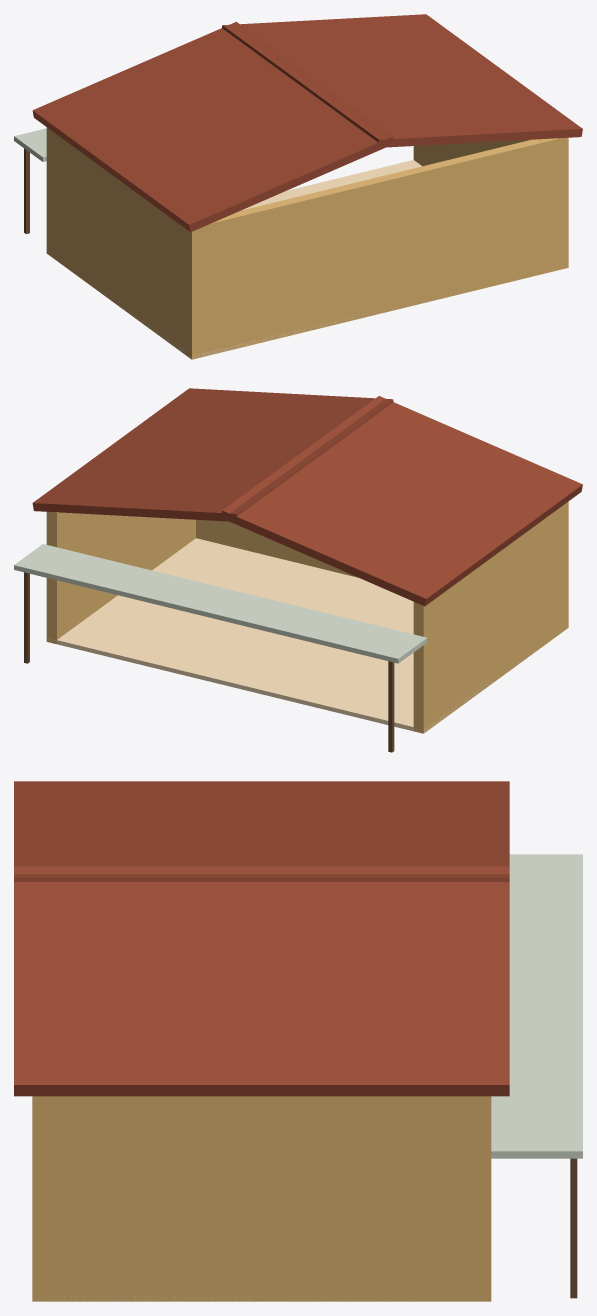
Rendered from furniture.glb.
3 views of the same model, one above another, from view 1: azimuth 30°, elevation 25°; view 2: azimuth 150°, elevation 25°; view 3: azimuth 270°, elevation 25° (orthographic). The views are drawn at different scales.
Visible parts, largest first — view 1: _MeshInstance3D_115, _MeshInstance3D_124, _MeshInstance3D_125, _MeshInstance3D_118, _MeshInstance3D_126, _MeshInstance3D_121, _MeshInstance3D_127, _MeshInstance3D_128; view 2: _MeshInstance3D_124, _MeshInstance3D_126, _MeshInstance3D_125, _MeshInstance3D_118, _MeshInstance3D_127, _MeshInstance3D_121, _MeshInstance3D_115, _MeshInstance3D_128, _MeshInstance3D_129; view 3: _MeshInstance3D_125, _MeshInstance3D_121, _MeshInstance3D_124, _MeshInstance3D_127, _MeshInstance3D_115, _MeshInstance3D_129.
Part boxes in pixels (x1,y1,x2,y2): _MeshInstance3D_115: (186, 137, 568, 359); _MeshInstance3D_124: (32, 22, 393, 232); _MeshInstance3D_125: (222, 14, 582, 147); _MeshInstance3D_118: (46, 127, 201, 358); _MeshInstance3D_126: (105, 160, 421, 359); _MeshInstance3D_121: (413, 139, 530, 166); _MeshInstance3D_127: (14, 128, 46, 161); _MeshInstance3D_128: (24, 148, 29, 233); _MeshInstance3D_124: (221, 396, 582, 606); _MeshInstance3D_126: (46, 538, 505, 733); _MeshInstance3D_125: (32, 388, 393, 521); _MeshInstance3D_118: (413, 501, 568, 733); _MeshInstance3D_127: (14, 544, 427, 663); _MeshInstance3D_121: (46, 511, 195, 644); _MeshInstance3D_115: (196, 503, 568, 631); _MeshInstance3D_128: (388, 661, 394, 752); _MeshInstance3D_129: (24, 572, 29, 663); _MeshInstance3D_125: (14, 866, 509, 1096); _MeshInstance3D_121: (32, 1096, 491, 1301); _MeshInstance3D_124: (14, 781, 509, 881); _MeshInstance3D_127: (491, 854, 582, 1158); _MeshInstance3D_115: (32, 1096, 50, 1301); _MeshInstance3D_129: (570, 1158, 577, 1298).
Size of the model in its own units: 15.67 by 6.84 by 12.4.
